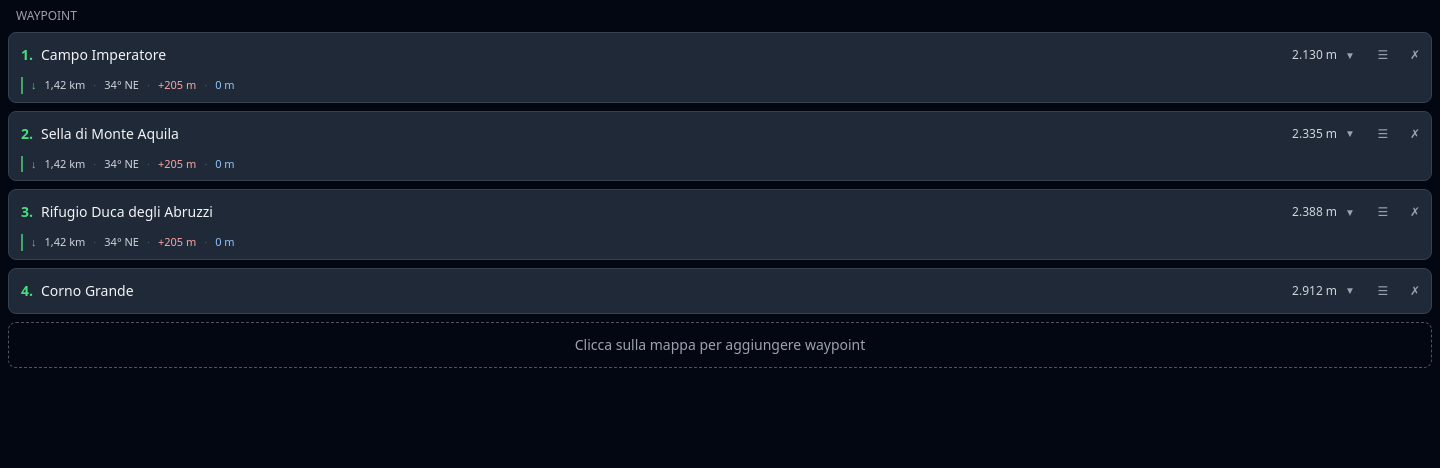
Scenario: la lista sceglie la forma in base alla modalita › toccando di nuovo la stessa riga si chiude
The image size is (1440, 468).
Click the button "1. Campo Imperatore 2.130 m ▼" at coordinates (104, 54), box [9,33,1367,77]
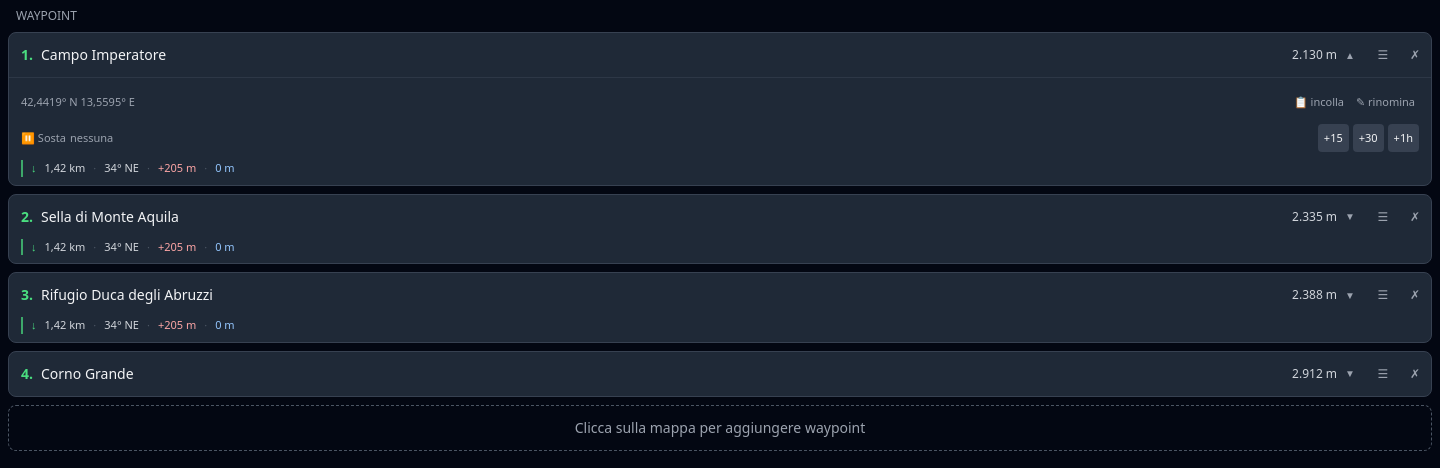
Click the button "1. Campo Imperatore 2.130 m ▲" at coordinates (104, 54), box [9,33,1367,77]
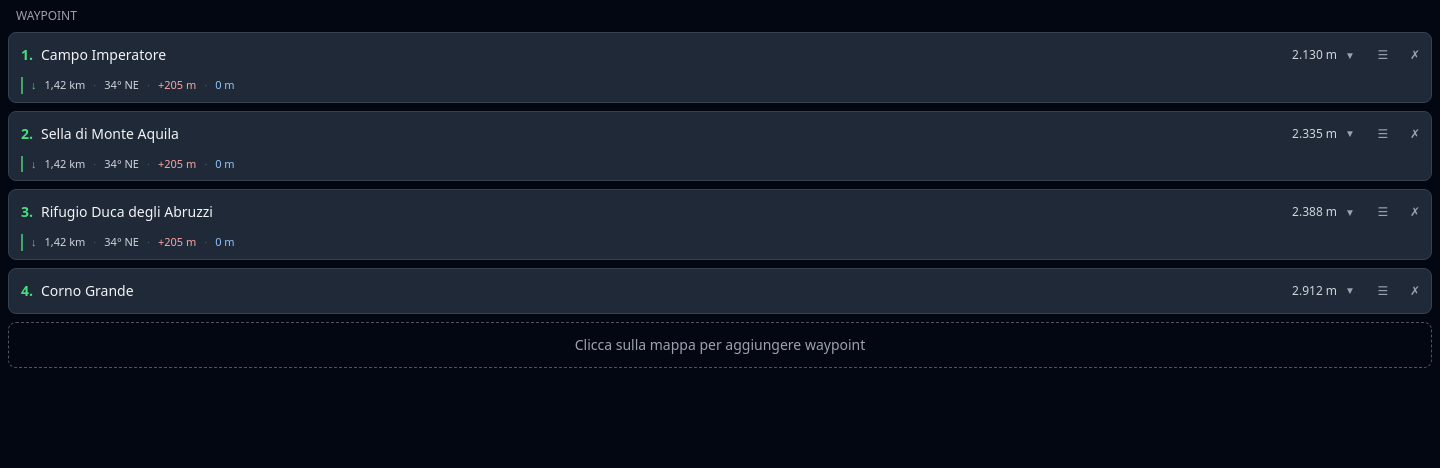
Now no the button "📋 incolla" are shown
